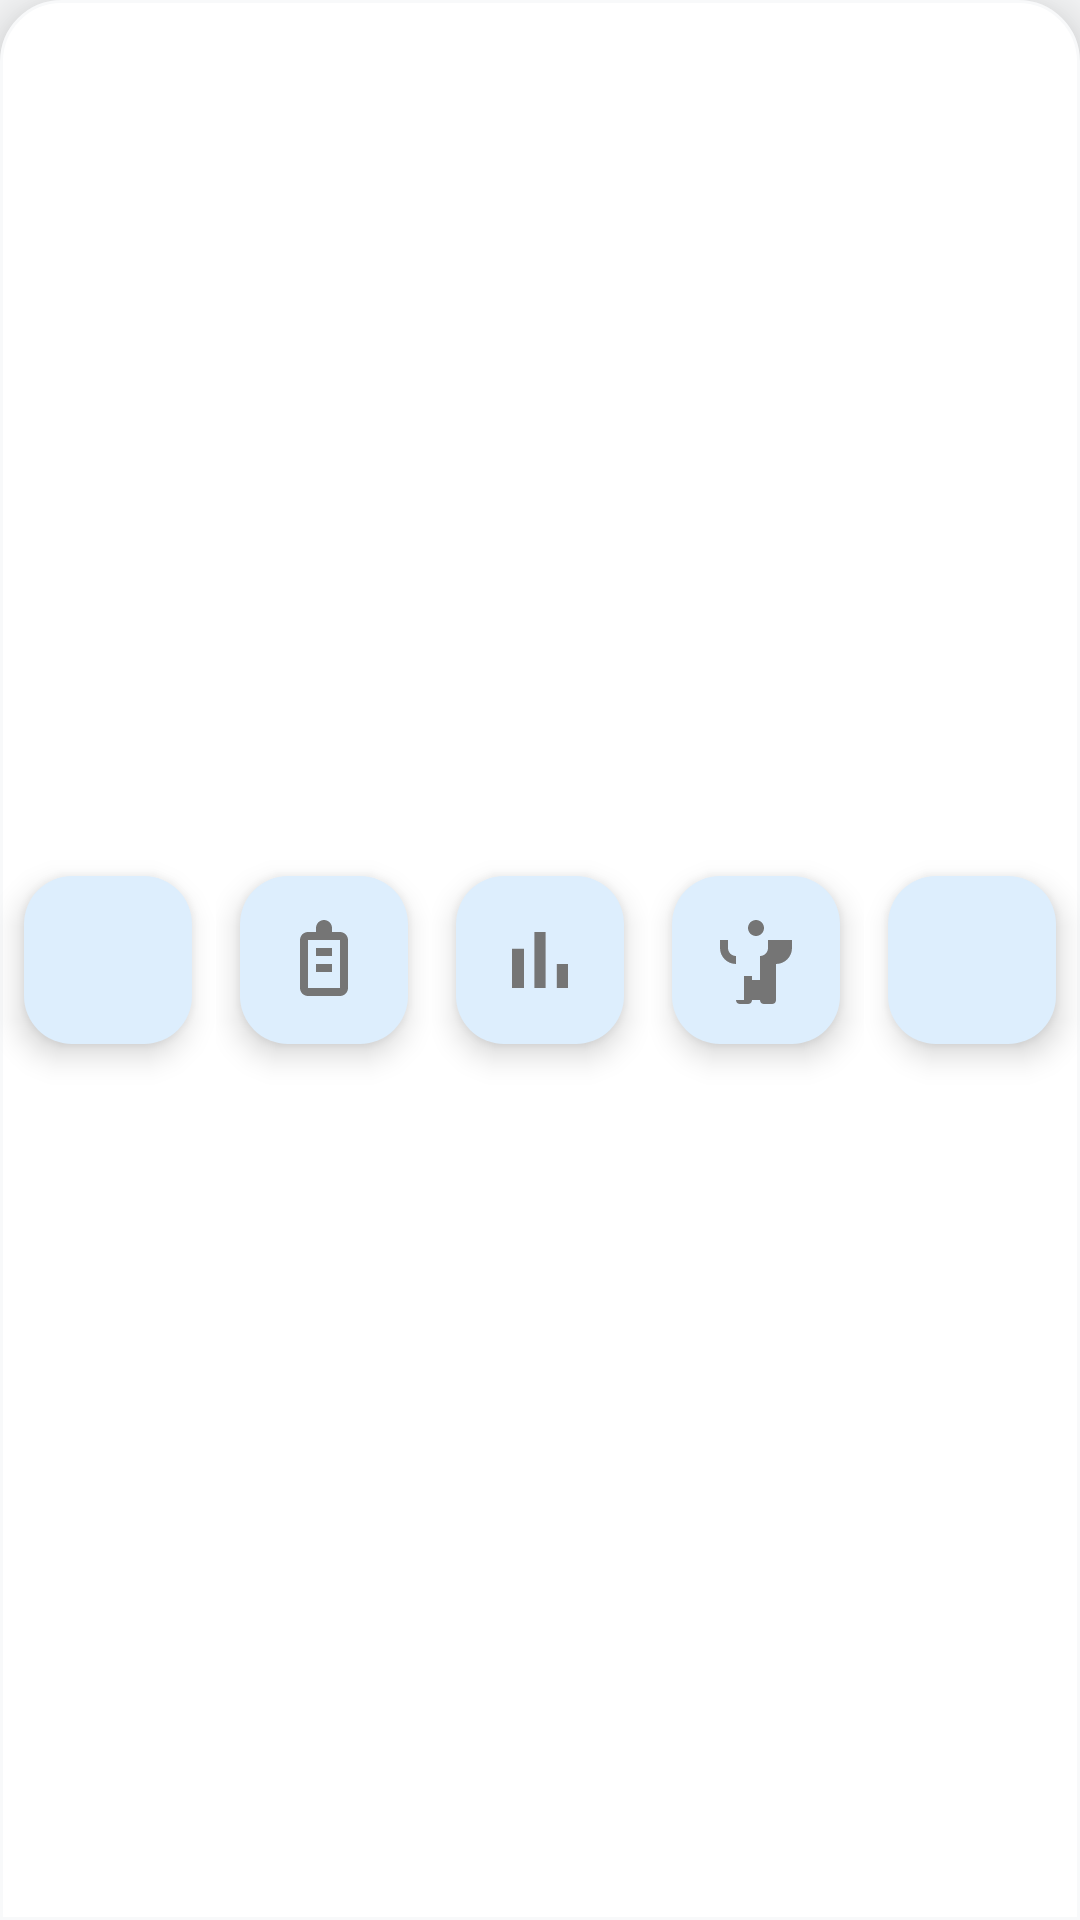

Screen size 1080 × 1920. Icon name, then its center in pixels as (x,y):
analytics: (540,960)
